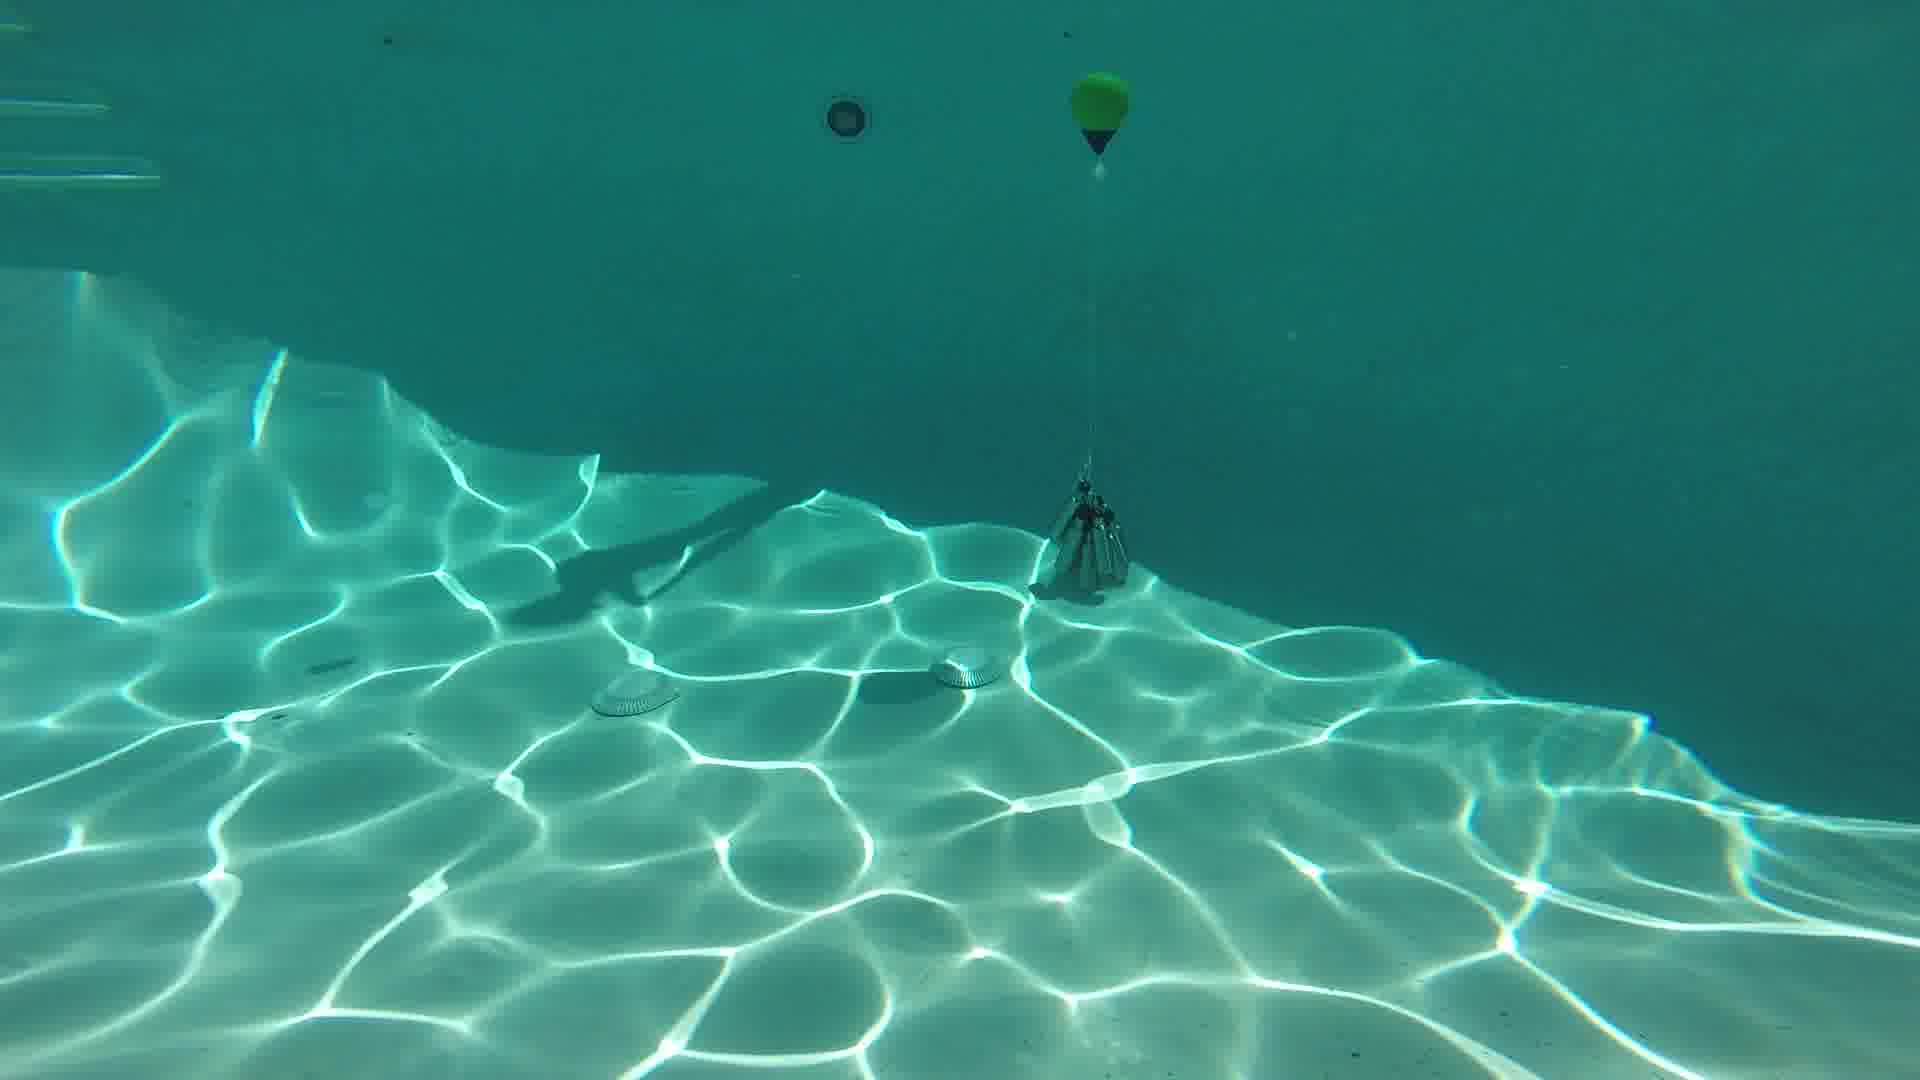yellow_buoy: (1069, 73, 1127, 157)
